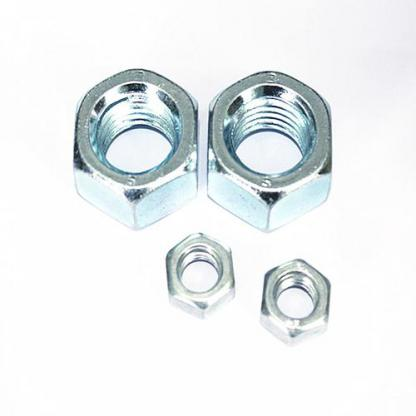FOD: (202, 66, 337, 233), (70, 66, 205, 231), (256, 256, 337, 347), (157, 232, 237, 316)
